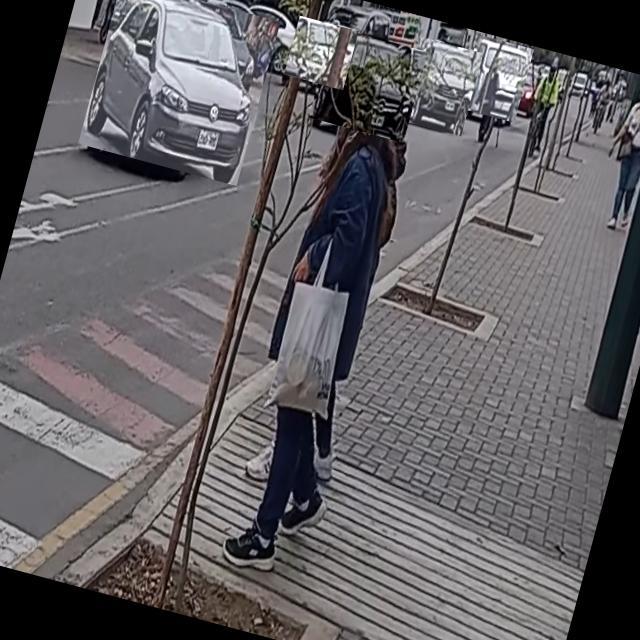car: (78, 0, 280, 186), (308, 26, 427, 142), (397, 36, 483, 136), (458, 34, 534, 122), (283, 15, 358, 90)
